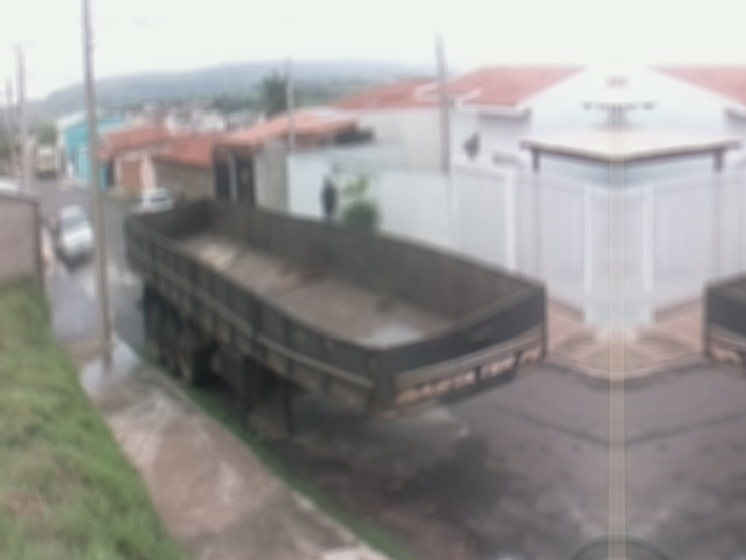person: (318, 174, 338, 228)
